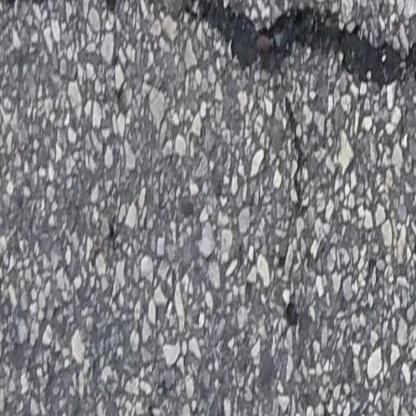Cracks: (157, 0, 416, 93), (0, 0, 78, 7)
